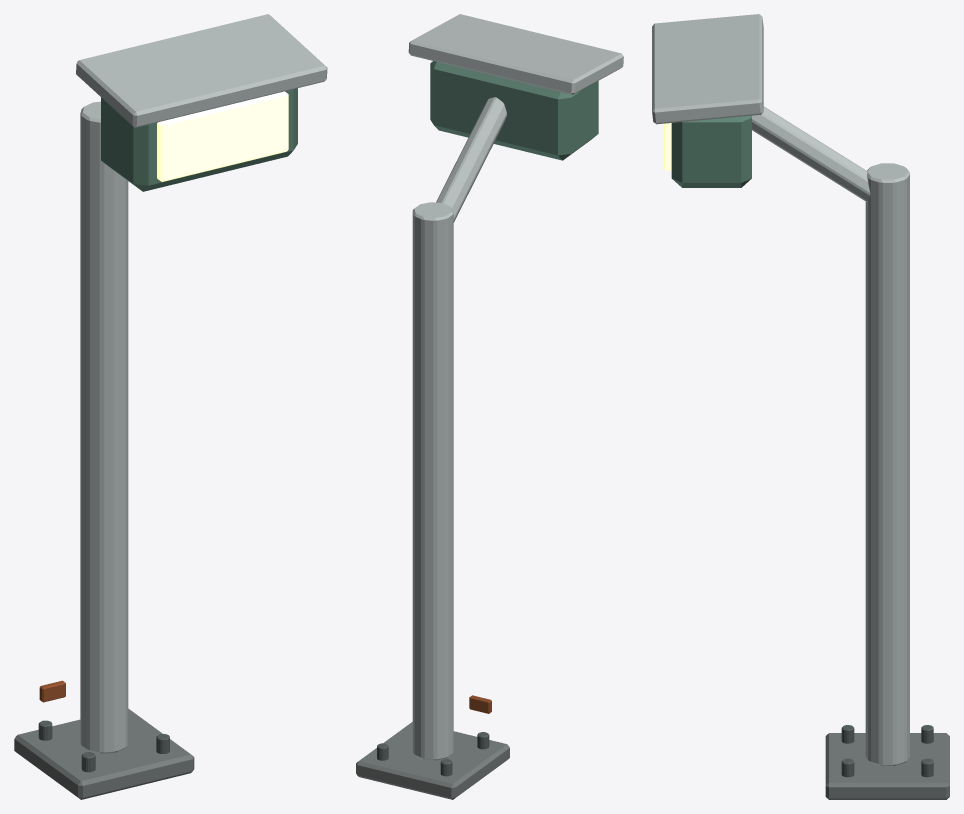
Rendered from runtime.glb.
3 renders of one model, left to right at view 1: azimuth 30°, elevation 25°; view 2: azimuth 150°, elevation 25°; view 3: azimuth 270°, elevation 25°, orthographic. The views are drawn at different scales.
Visible parts, largest first — view 1: reactor-maintenance-light-v06_nocol; view 2: reactor-maintenance-light-v06_nocol; view 3: reactor-maintenance-light-v06_nocol.
Part boxes in pixels (left/top/right/bottom): reactor-maintenance-light-v06_nocol: left=14, top=14, right=327, bottom=799; reactor-maintenance-light-v06_nocol: left=356, top=14, right=623, bottom=799; reactor-maintenance-light-v06_nocol: left=652, top=14, right=949, bottom=799.
Bounding box in the file's own units: 1.09 × 4.15 × 1.56.
